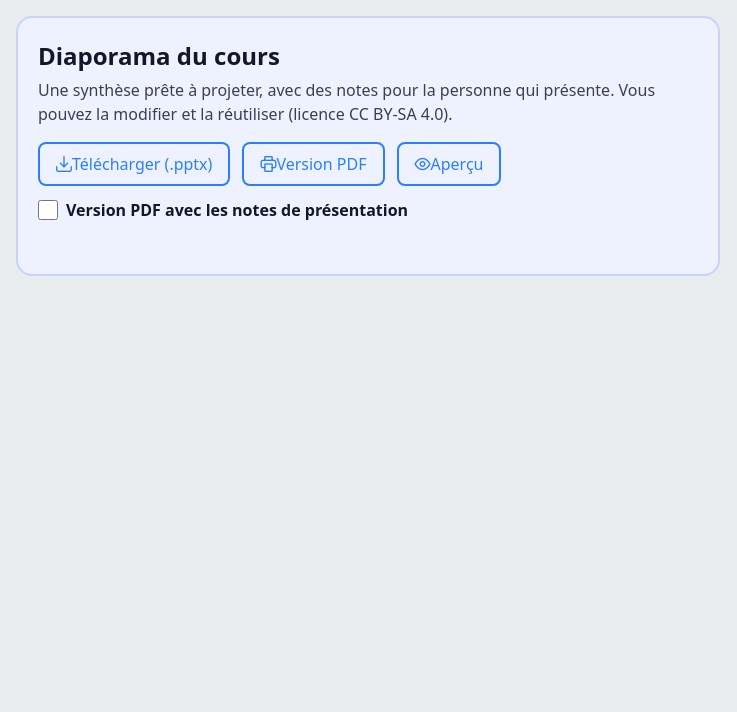
Scenario: DiaporamaActions › affiche l'aperçu des diapositives à la demande
What coordinates should you click on to do the following:
click the button with test id "diaporama-apercu"
I would click on:
 (449, 164)
Its box is [396,142,502,186].
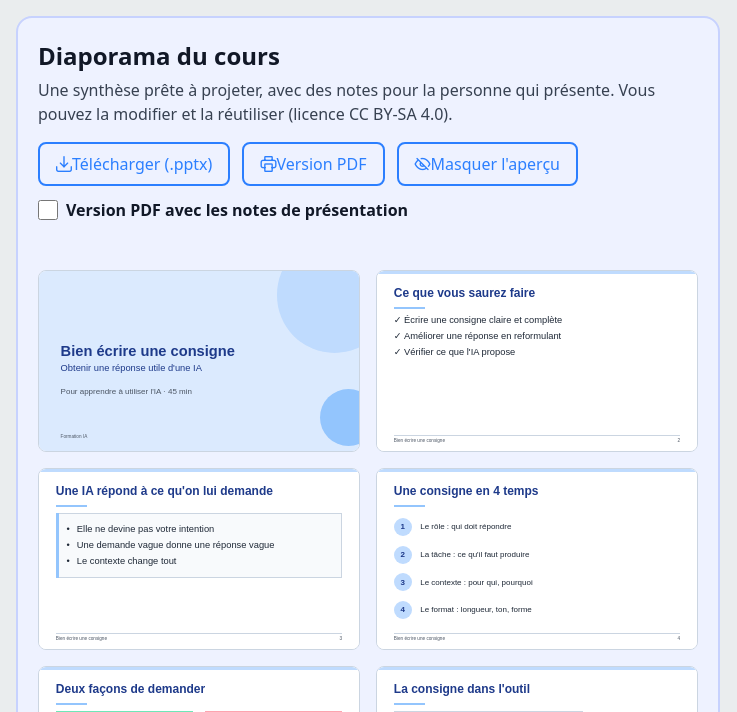
Result: the button with test id "diaporama-apercu" is expanded at [396,142,578,186]
Result: the heading "Ce que vous saurez faire" is shown at [394,286,535,300]
